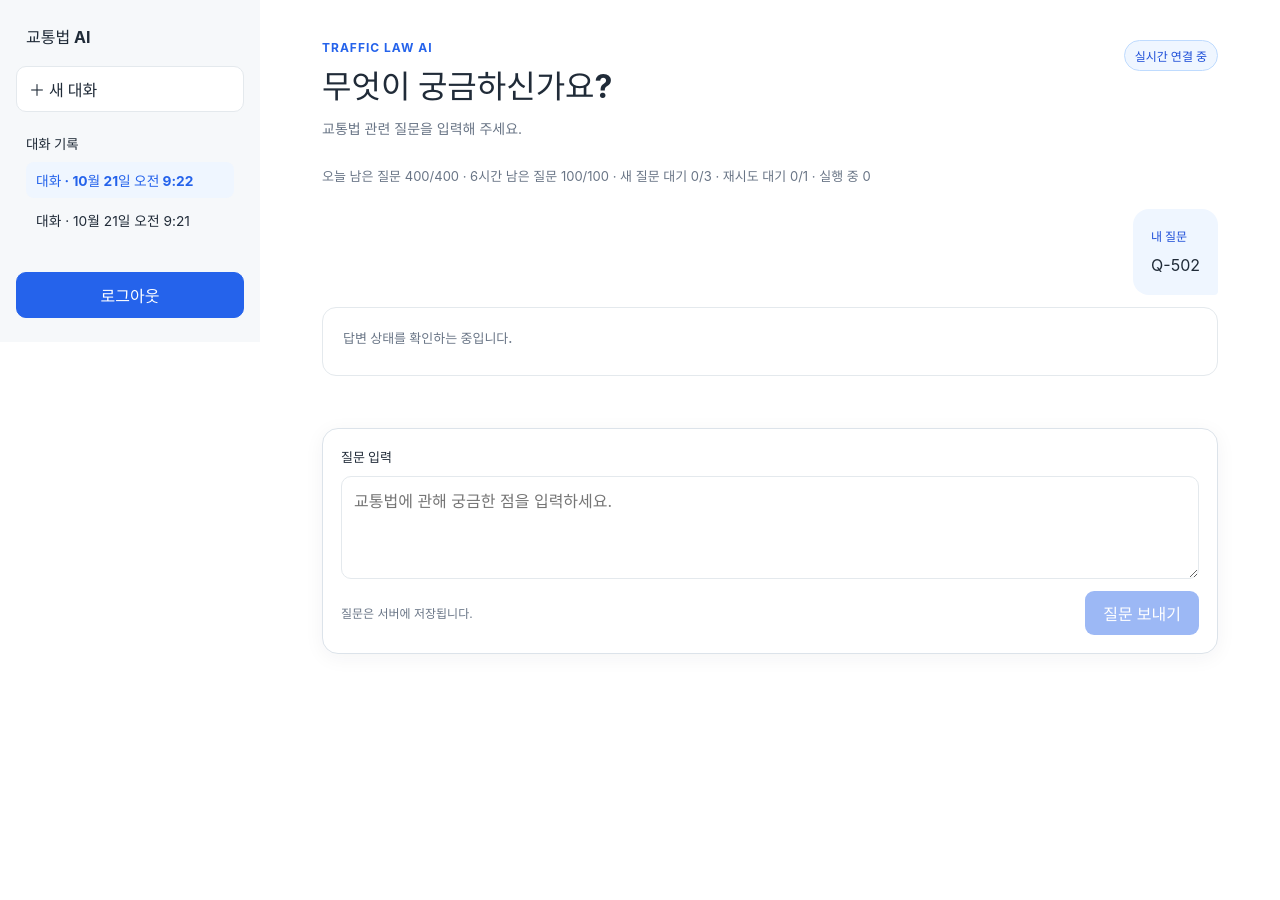
Test: 사이드바에서 대화를 고르면 본문이 그 대화를 보여 주고, 새 대화는 빈 화면에서 시작한다
This screenshot has width=1280, height=900.
Expected: the text "Q-502" is shown, [1151,253,1200,279]
Click the 3rd button: (130, 220) [26,202,234,238]
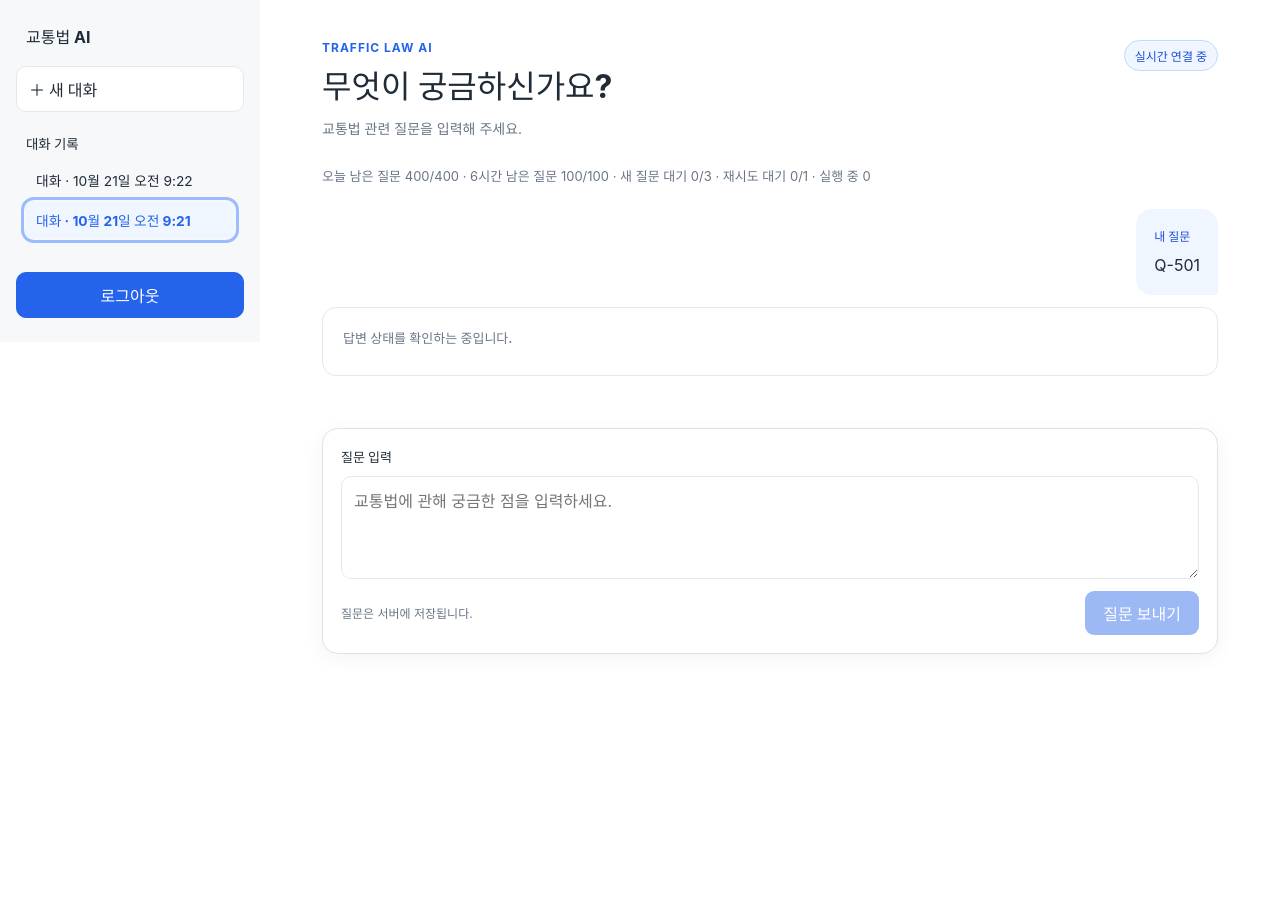
Result: the text "Q-501" is shown at [1154,253,1200,279]
Result: the text "Q-502" is gone
Click the button "＋ 새 대화": (130, 89) [16,66,244,112]
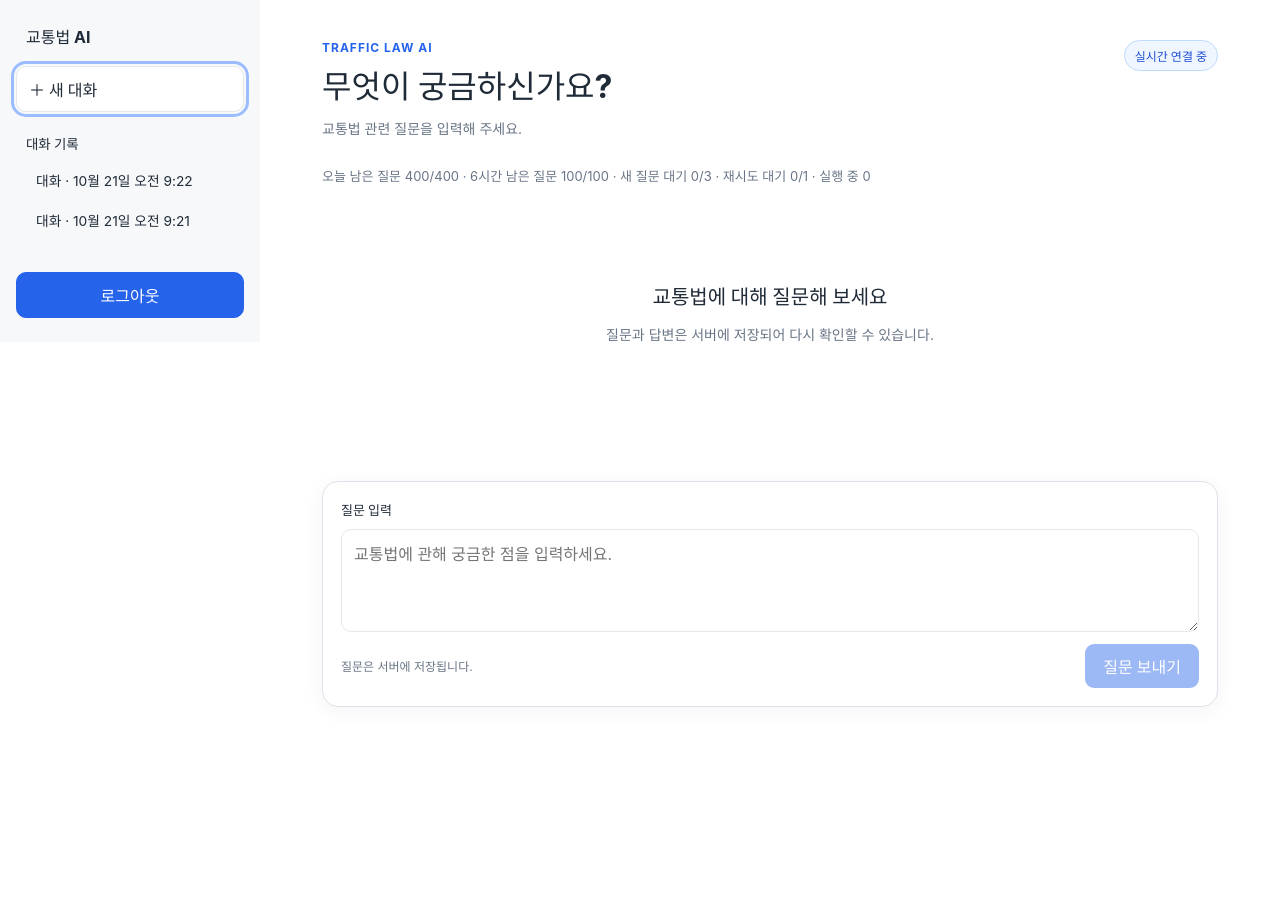
Result: the text "Q-501" is gone
Result: the heading "교통법에 대해 질문해 보세요" is shown at [652,281,888,310]
